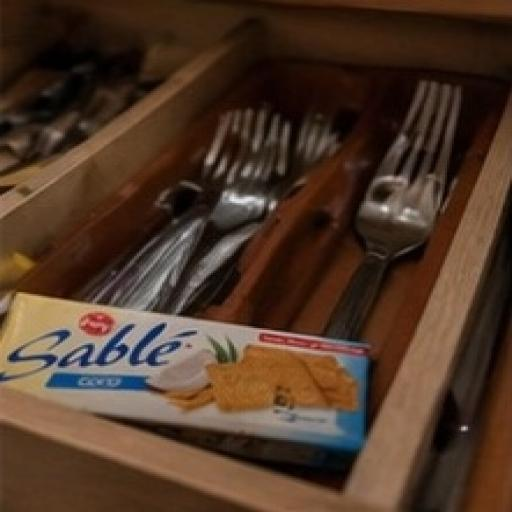sabl: (0, 244, 449, 508)
